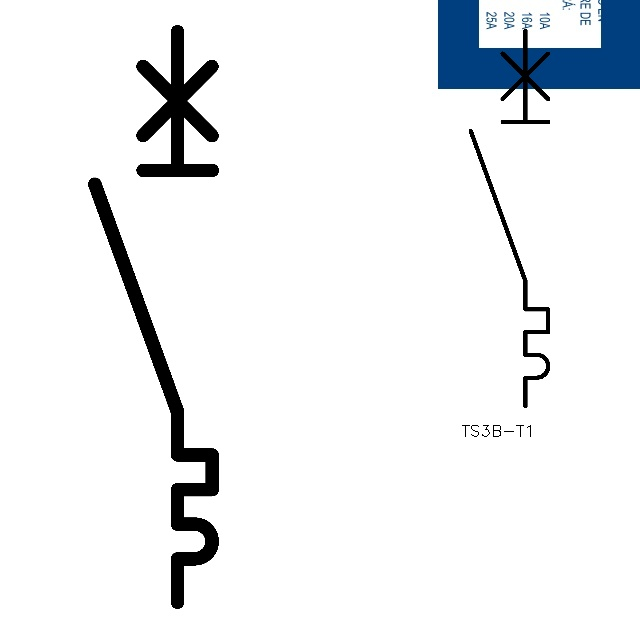interruptor_termomagnetico: (80, 17, 227, 617), (461, 21, 558, 416)
